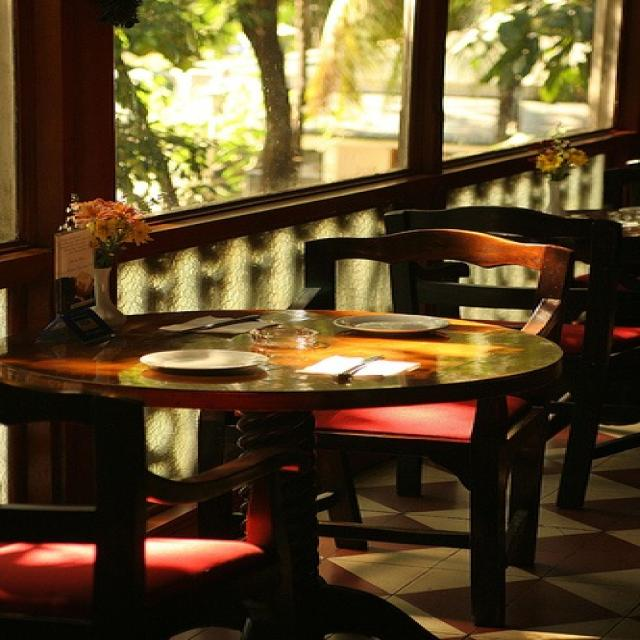chair: (245, 232, 578, 614), (380, 207, 639, 512), (1, 395, 297, 640)
diningtable: (11, 306, 576, 635)
